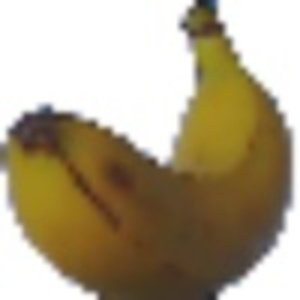banana: (5, 2, 287, 297)
